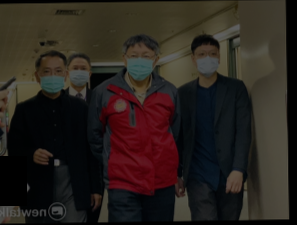with_mask: (124, 48, 156, 82), (36, 65, 67, 95), (194, 47, 220, 78), (66, 62, 91, 87)
